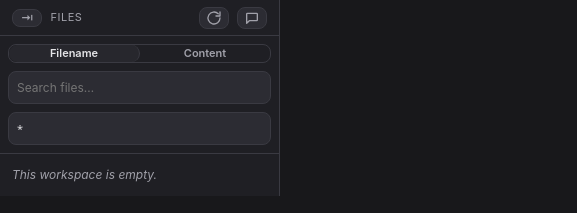
Test: FileTree.vue — Files 侧栏头 + 展开/收缩切换 › 再次点击 → 回到无 expanded class、aria-pressed=false、图标回 ⇥
Click the button with test id "files-tree-toggle".
click(27, 18)  # box [12,8,42,26]
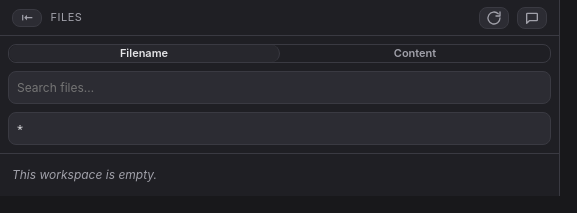
Click the button with test id "files-tree-toggle".
click(27, 18)  # box [12,8,42,26]
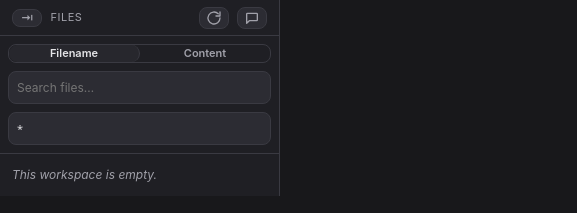
Expected: the button with test id "files-tree-toggle" reads "⇥", [12,8,42,26]
